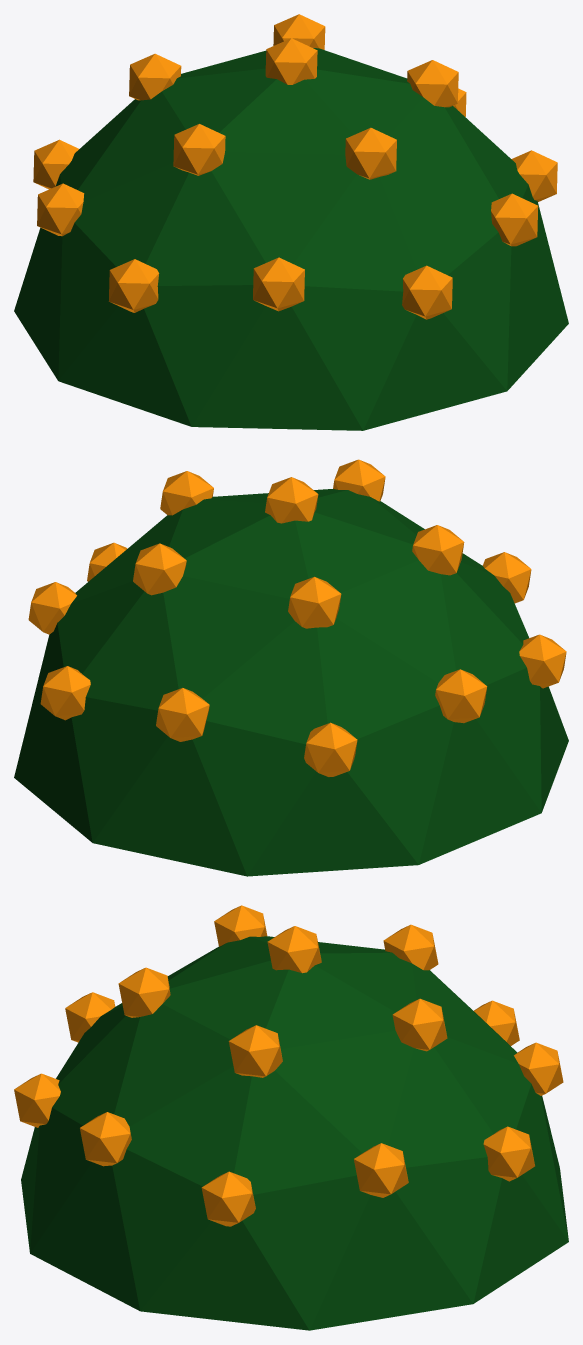
Rendered from BushFruitsYellow.obj.
The picture shows the model from 3 angles, top to bottom: view 1: azimuth 30°, elevation 25°; view 2: azimuth 150°, elevation 25°; view 3: azimuth 270°, elevation 25°; orthographic projection. The views are drawn at different scales.
Visible parts, largest first — view 1: BushFruitsYellow_Icosphere.081; view 2: BushFruitsYellow_Icosphere.081; view 3: BushFruitsYellow_Icosphere.081.
Boxes of the visible parts, x1,y1,x2,y2 form: BushFruitsYellow_Icosphere.081: (14, 14, 568, 430); BushFruitsYellow_Icosphere.081: (14, 459, 568, 876); BushFruitsYellow_Icosphere.081: (14, 905, 568, 1330).
Bounding box in the file's own units: 6.05 × 3.36 × 5.92.
